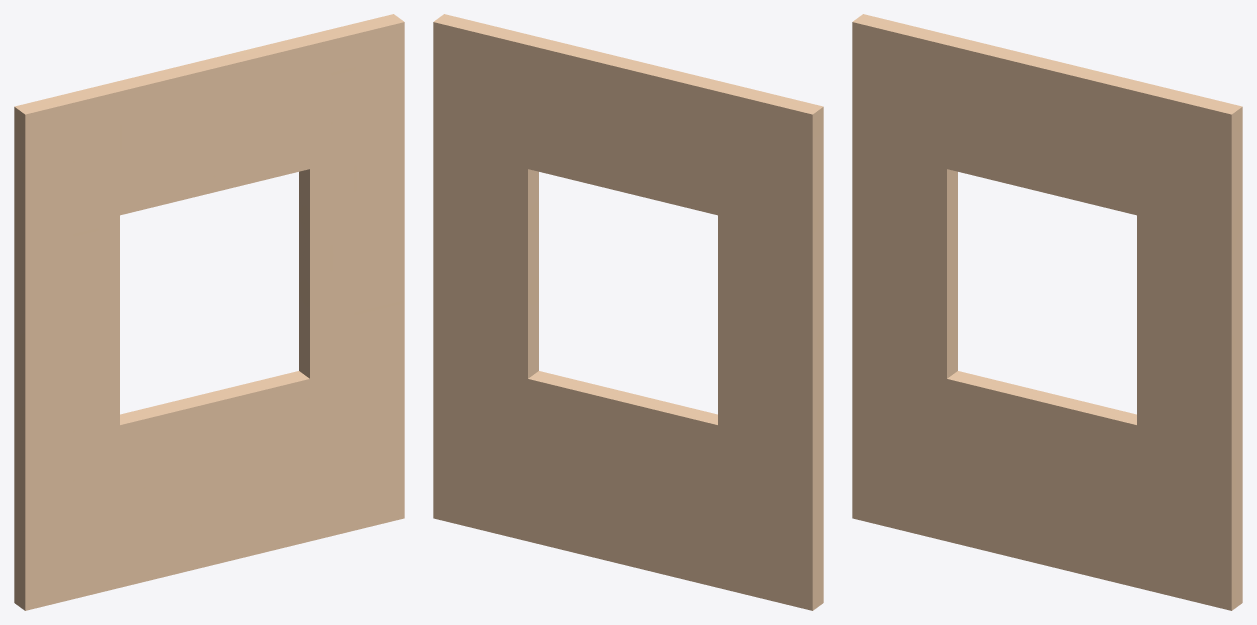
The model's file is Wall_01_Window.fbx.
3 views of the same model, side by side, from view 1: azimuth 30°, elevation 25°; view 2: azimuth 150°, elevation 25°; view 3: azimuth 330°, elevation 25° (orthographic).
Visible parts, largest first — view 1: Wall_01_Window; view 2: Wall_01_Window; view 3: Wall_01_Window.
Part boxes in pixels (x1,y1,x2,y2): Wall_01_Window: [14, 14, 404, 610]; Wall_01_Window: [433, 14, 823, 610]; Wall_01_Window: [852, 14, 1242, 610].
Size of the model in its own units: 2 by 2.5 by 0.1.
